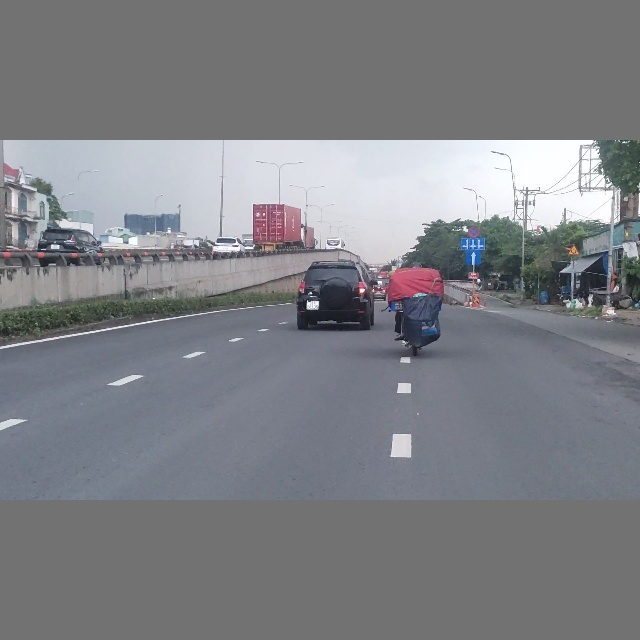I.407a: (466, 250, 481, 265), (568, 245, 579, 255)
P.130: (467, 226, 480, 237)
